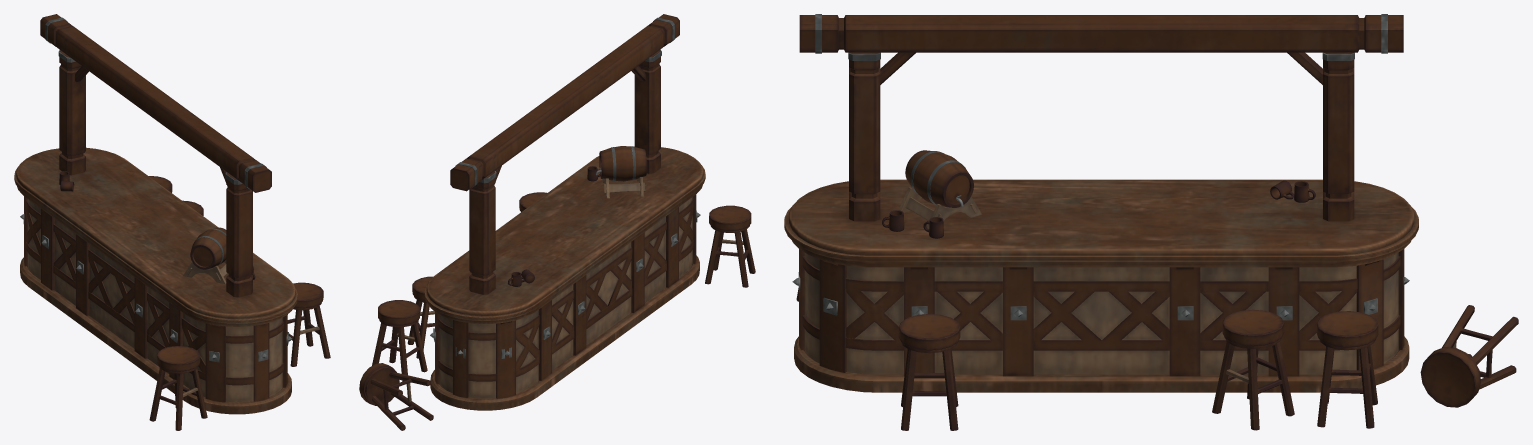
The model's file is beer-bar-e4d0a8.glb.
3 renders of one model, left to right at view 1: azimuth 30°, elevation 25°; view 2: azimuth 150°, elevation 25°; view 3: azimuth 270°, elevation 25°, orthographic. The views are drawn at different scales.
Parts seen in each view (by area): view 1: PropMesh; view 2: PropMesh; view 3: PropMesh.
Boxes of the visible parts, x1,y1,x2,y2 form: PropMesh: (14, 14, 330, 430); PropMesh: (359, 14, 755, 430); PropMesh: (784, 14, 1518, 430).
Size of the model in its own units: 1.65 by 1.9 by 3.7.
Materials: 1 (1 with a texture image).
